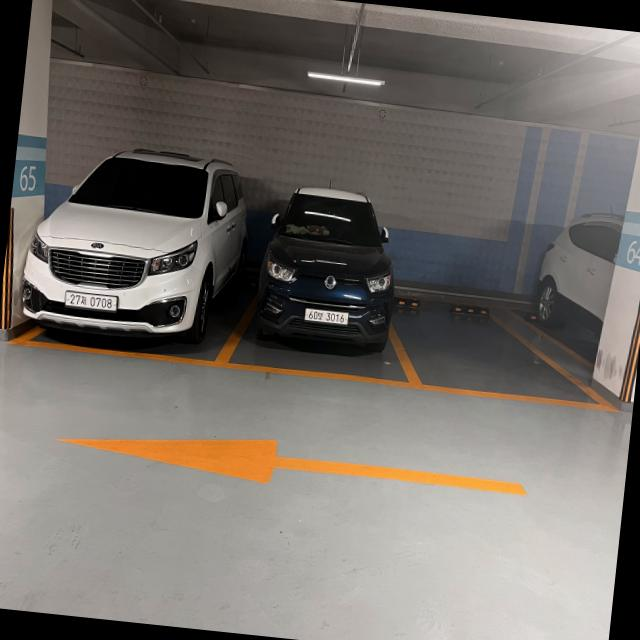car: (12, 126, 238, 376), (238, 165, 412, 392)
free: (378, 298, 614, 414)
